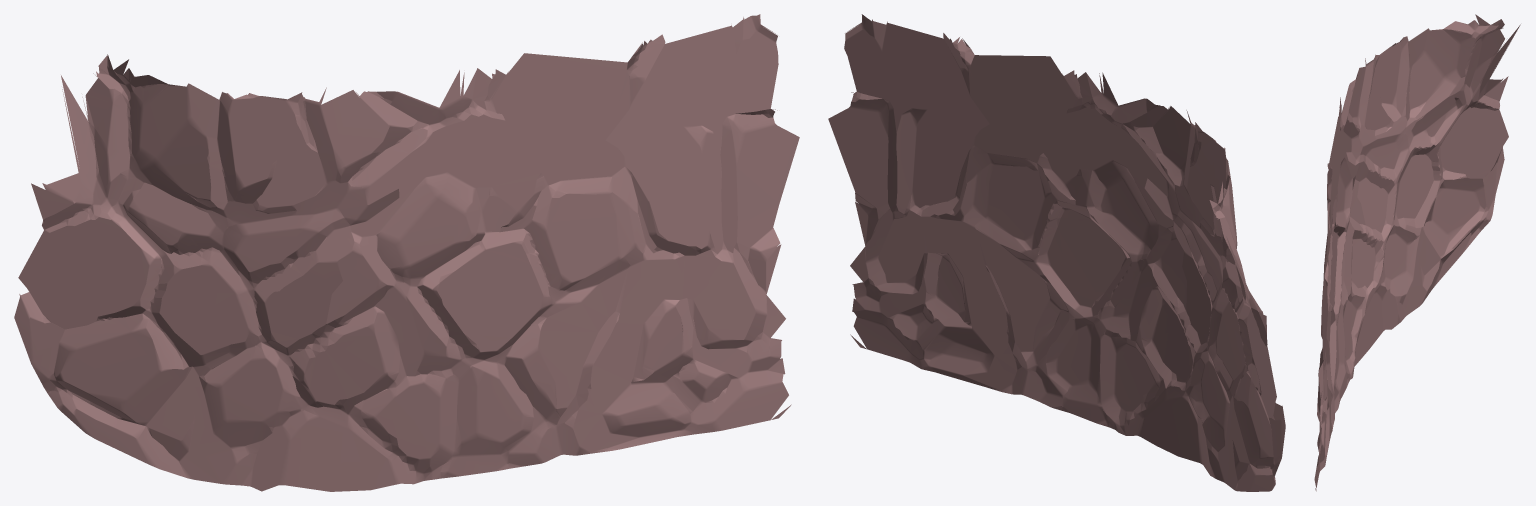
File: cliff_area_2.fbx_Cliff_Area_2_021LODs.fbx
3 renders of one model, left to right at view 1: azimuth 30°, elevation 25°; view 2: azimuth 150°, elevation 25°; view 3: azimuth 270°, elevation 25°, orthographic. The views are drawn at different scales.
Visible parts, largest first — view 1: Cliff Area 2.021_LOD0; view 2: Cliff Area 2.021_LOD0; view 3: Cliff Area 2.021_LOD0.
Part boxes in pixels (x1=…): Cliff Area 2.021_LOD0: x1=14, y1=14, x2=799, y2=491; Cliff Area 2.021_LOD0: x1=828, y1=14, x2=1285, y2=491; Cliff Area 2.021_LOD0: x1=1314, y1=14, x2=1520, y2=491.
Size of what is drawn, in the model's own units: 6486 by 3881 by 2469.
